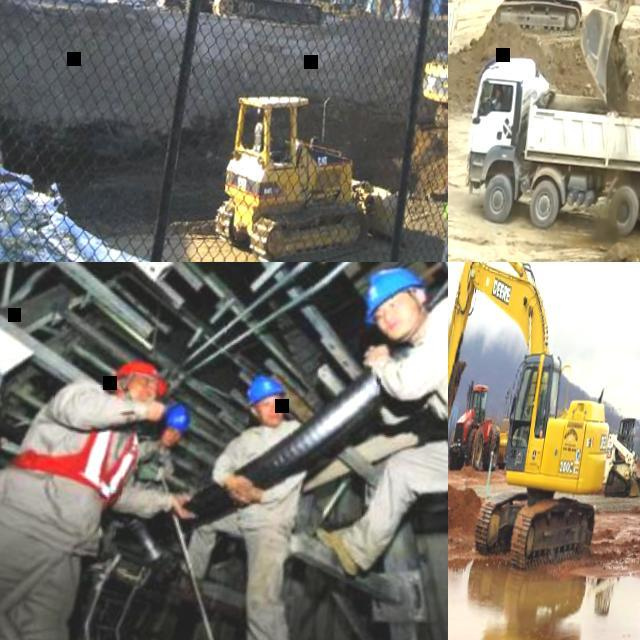helmet: (361, 263, 425, 322), (108, 358, 170, 396), (243, 373, 290, 412), (164, 404, 192, 434)
vest: (17, 410, 143, 502)
